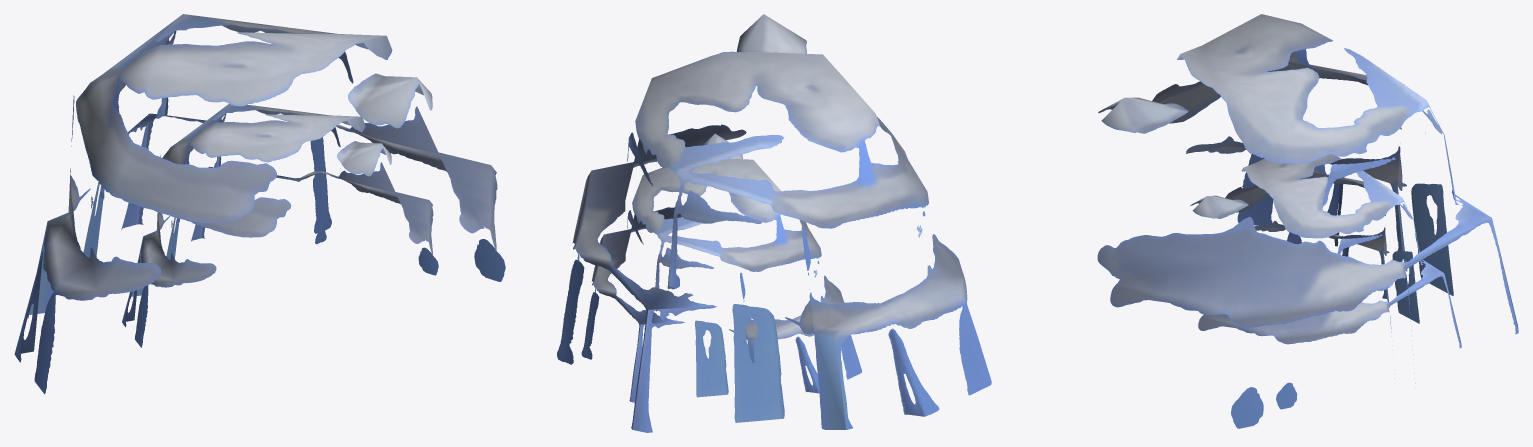
File: bing_box03.glb
3 views of the same model, side by side, from view 1: azimuth 30°, elevation 25°; view 2: azimuth 150°, elevation 25°; view 3: azimuth 270°, elevation 25° (orthographic). The views are drawn at different scales.
Size of the model in its own units: 6.69 by 4.04 by 6.65.
Materials: 2 (2 with a texture image).
